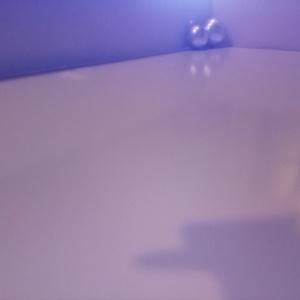alive_ball: (201, 16, 226, 46), (185, 24, 208, 49)
